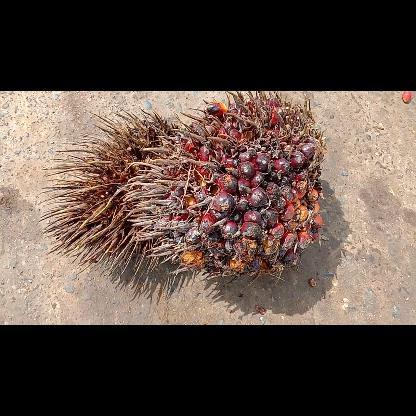Janjang kosong: (38, 108, 170, 278)
TBS masak: (126, 91, 324, 279)
